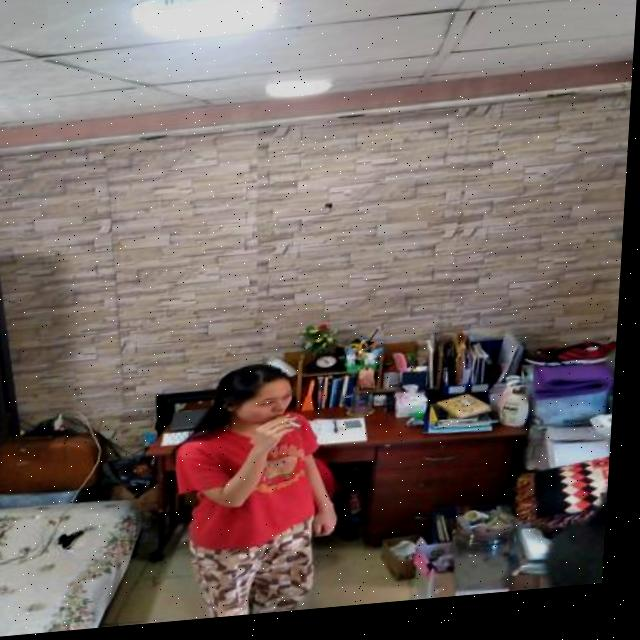cigarette: (293, 425, 309, 436)
